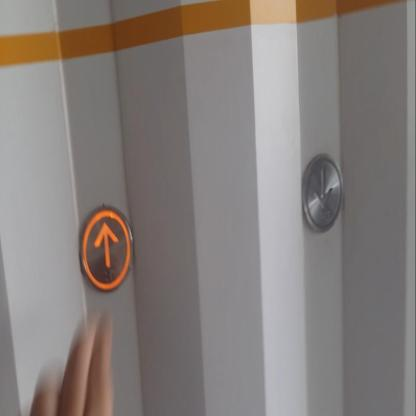down: (301, 152, 344, 232)
up: (78, 207, 132, 292)
